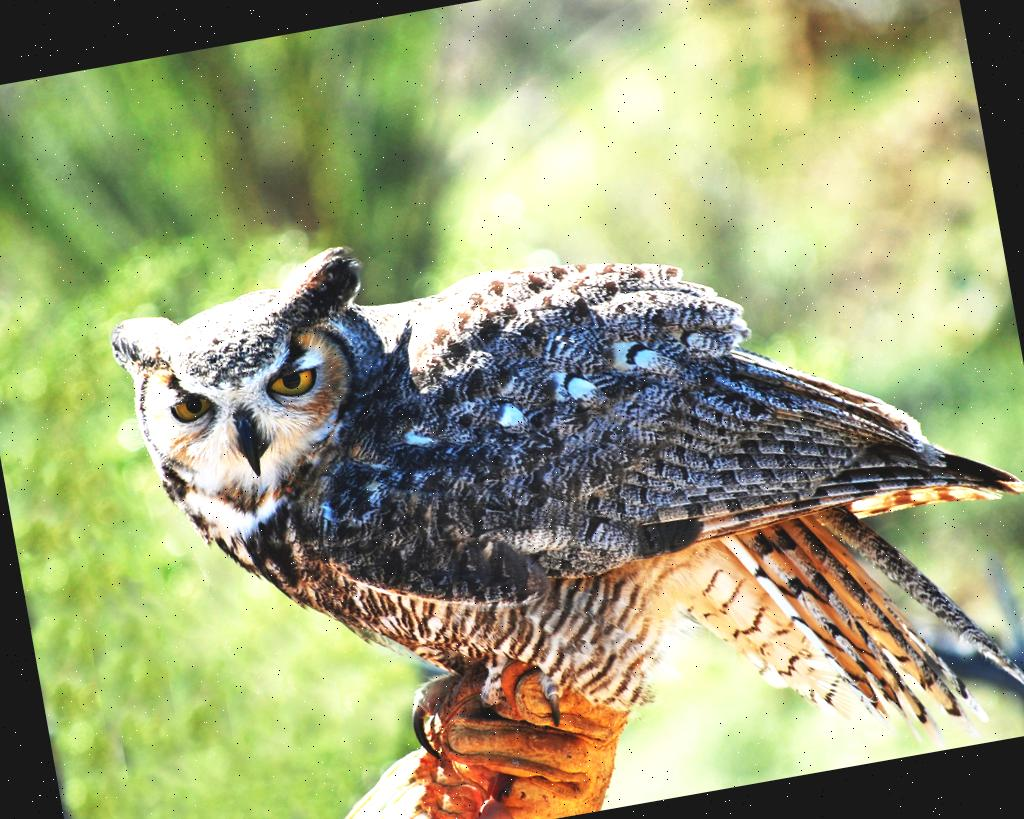Owl: (92, 129, 1024, 819)
